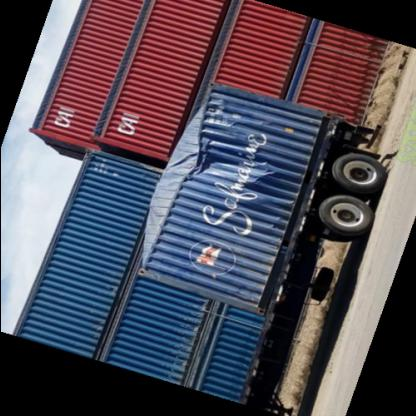Damage: (137, 106, 285, 274)
